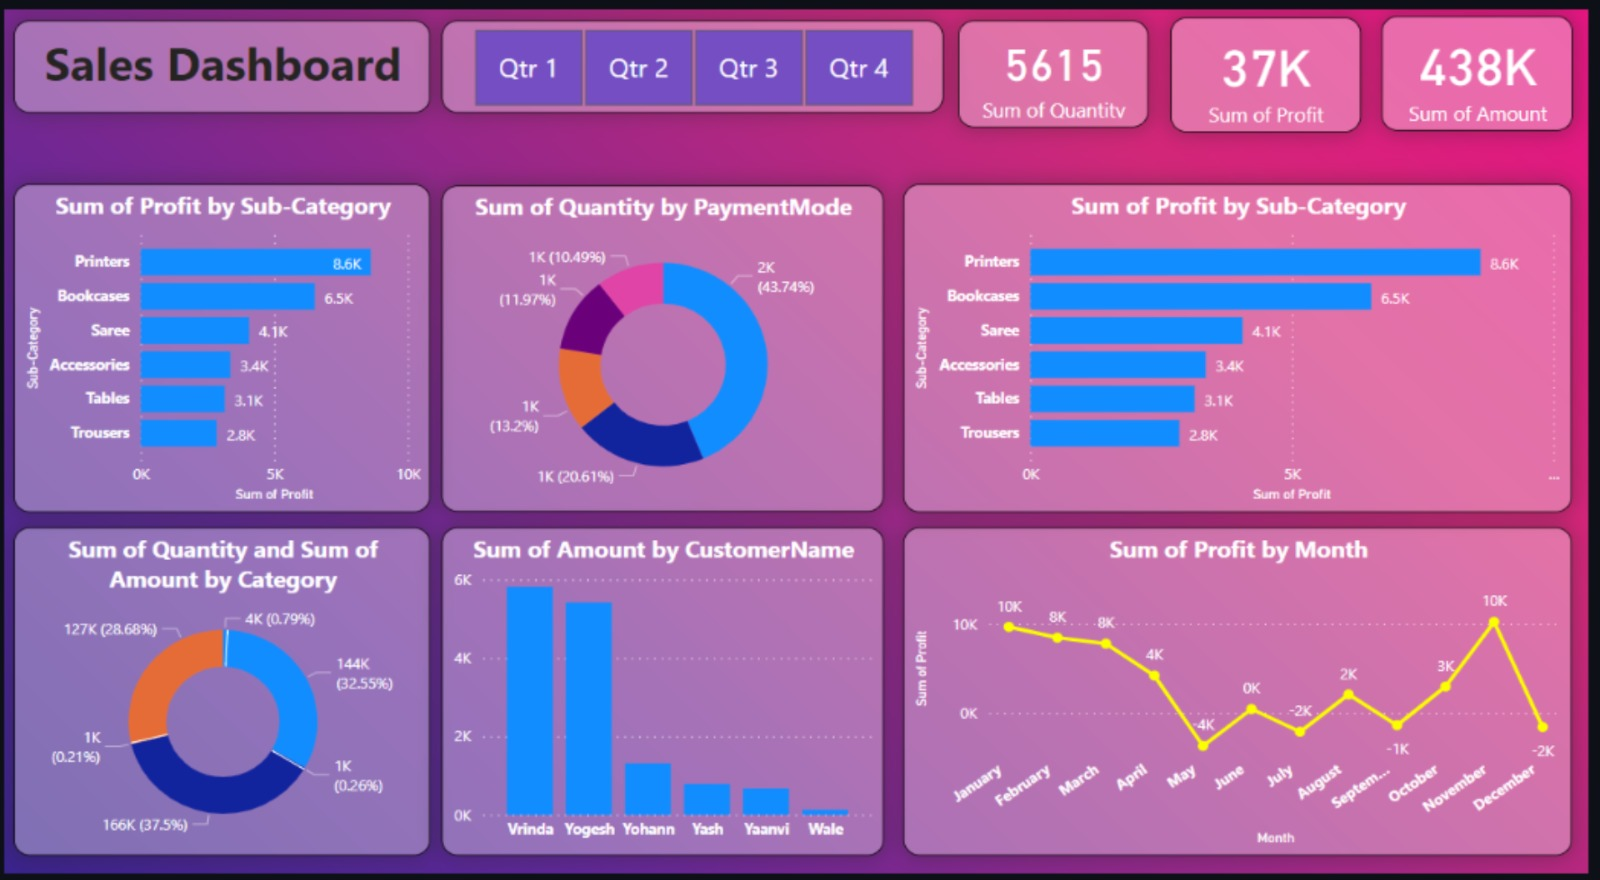

The dashboard page shown, as its layout file describes it:
{"tool":"powerbi","page":{"name":"Page 1","canvas":[1280,720],"ordinal":0},"visuals":[{"type":"clusteredBarChart","fields":{"Category":["Details.Sub-Category"],"Y":["Details.Profit"]},"box":[14.1,142.1,356.1,273.3],"z":0},{"type":"donutChart","fields":{"Category":["Details.PaymentMode"],"Y":["Details.Quantity"]},"box":[385.8,145.2,342,270.2],"z":1000},{"type":"barChart","fields":{"Y":["Details.Profit"],"Category":["Details.Sub-Category"]},"box":[745,145.2,513.8,270.2],"z":2000},{"type":"donutChart","fields":{"Y":["Details.Quantity","Details.Amount"],"Category":["Details.Category"]},"box":[14.1,432.6,356.1,260.8],"z":3000},{"type":"clusteredColumnChart","fields":{"Y":["Details.Amount"],"Category":["Orders.CustomerName"]},"box":[385.8,432.6,342,260.8],"z":4000},{"type":"card","fields":{"Values":["Details.Amount"]},"box":[1041.7,9.4,193.7,115.6],"z":5000},{"type":"card","fields":{"Values":["Details.Profit"]},"box":[832.5,10.9,193.7,114],"z":6000},{"type":"lineChart","fields":{"Category":["Orders.Order Date.Variation.Date Hierarchy.Month"],"Y":["Details.Profit"]},"box":[745,432.6,513.8,260.8],"z":7000},{"type":"textbox","box":[14.1,10.9,438.9,114],"z":8000}]}

Visuals, with their boxes in screenshot pixels (x1, y1, x2, y2), scaled from the page's 1280x720 canvas onto the 1600x880 screenshot:
clusteredBarChart - Details.Sub-Category x Details.Profit: l=18, t=174, r=463, b=508
donutChart - Details.PaymentMode x Details.Quantity: l=482, t=177, r=910, b=508
barChart - Details.Profit x Details.Sub-Category: l=931, t=177, r=1574, b=508
donutChart - Details.Quantity x Details.Amount: l=18, t=529, r=463, b=847
clusteredColumnChart - Details.Amount x Orders.CustomerName: l=482, t=529, r=910, b=847
card - Details.Amount: l=1302, t=11, r=1544, b=153
card - Details.Profit: l=1041, t=13, r=1283, b=153
lineChart - Orders.Order Date.Variation.Date Hierarchy.Month x Details.Profit: l=931, t=529, r=1574, b=847
textbox: l=18, t=13, r=566, b=153
